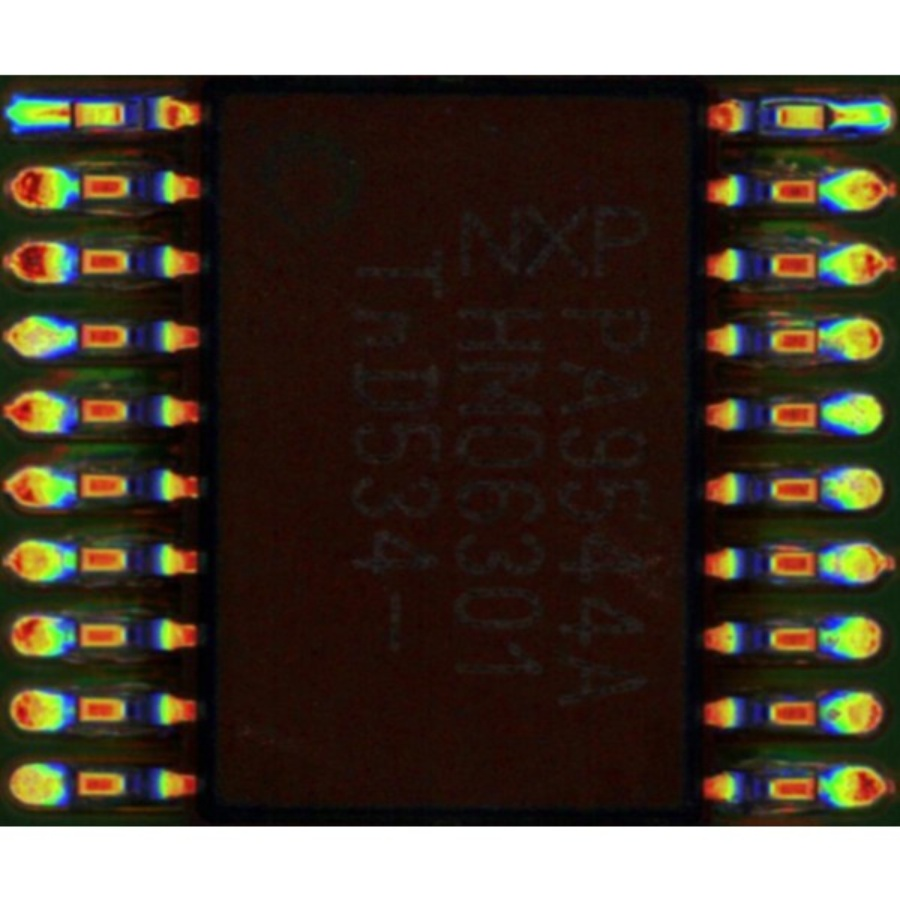Bad_podu: (816, 105, 853, 127), (46, 106, 88, 122)
Bad_qiaojiao: (762, 95, 826, 104)
